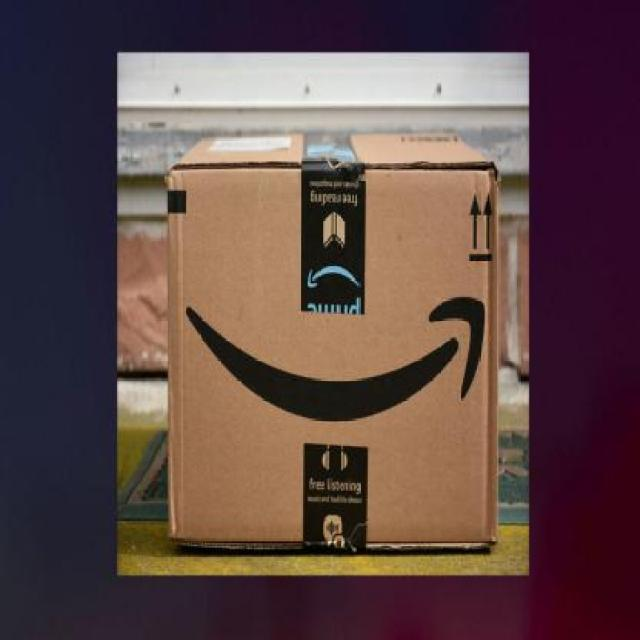cardboxes: (165, 129, 501, 554)
